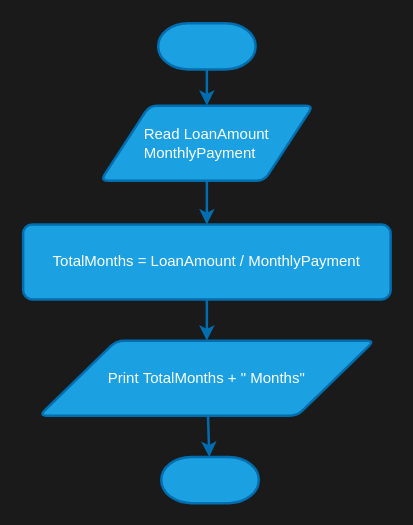
This 413x525 diagram has some shape labels left out. The shapes that lost their labels are listed below. From the top down, each one's centre as x and y in pixels, then its label:
(206,45): Start
(209,479): End
